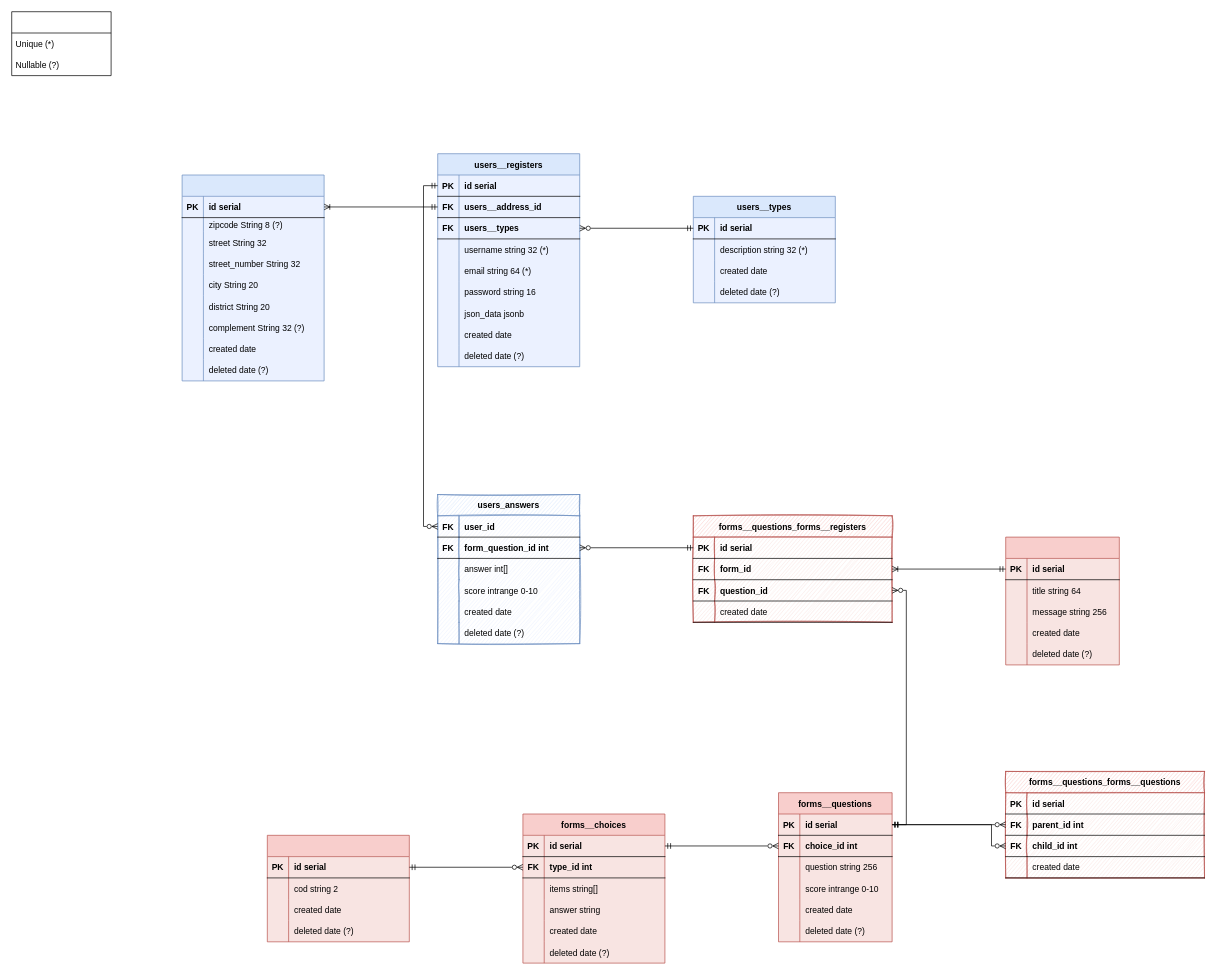
Image size: 1217x975. Some labels were removed from this diagram. Each missing label, with the box of its shape:
forms__registers: (1005, 536, 1119, 665)
forms__types: (267, 835, 409, 942)
Legenda: (11, 11, 111, 76)
users__adresses: (181, 174, 324, 381)
